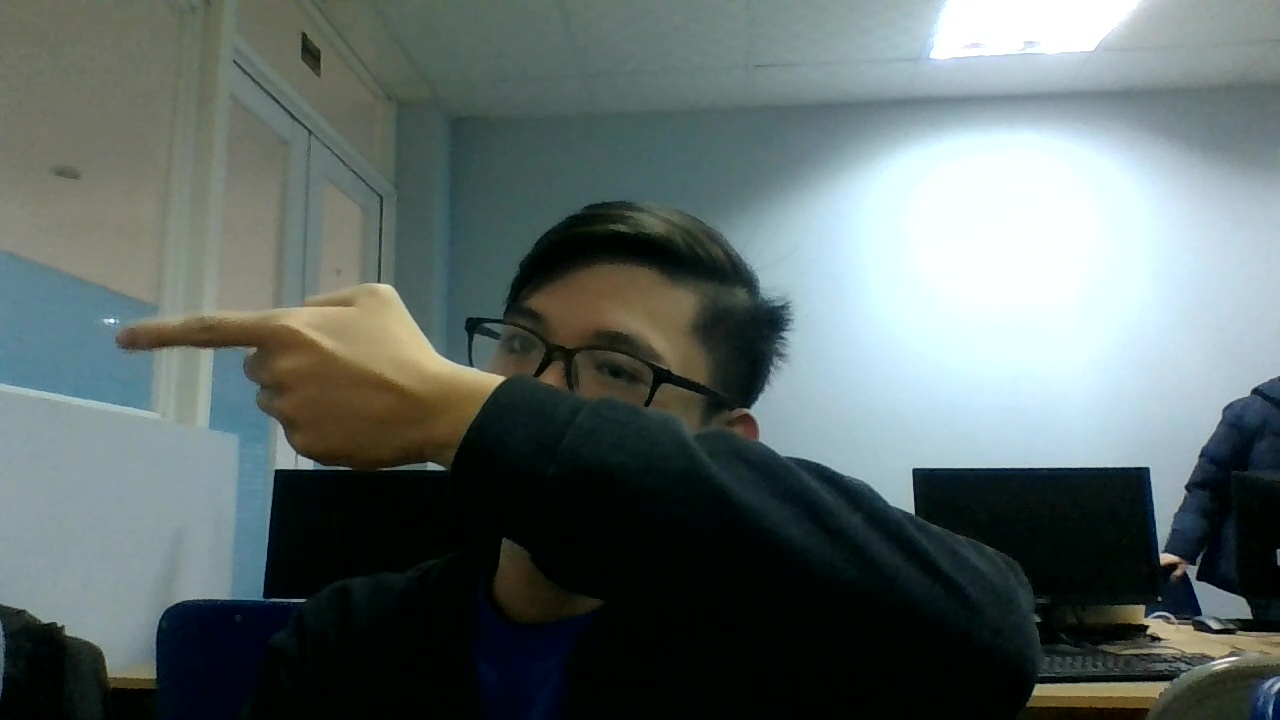right: (118, 281, 434, 481)
